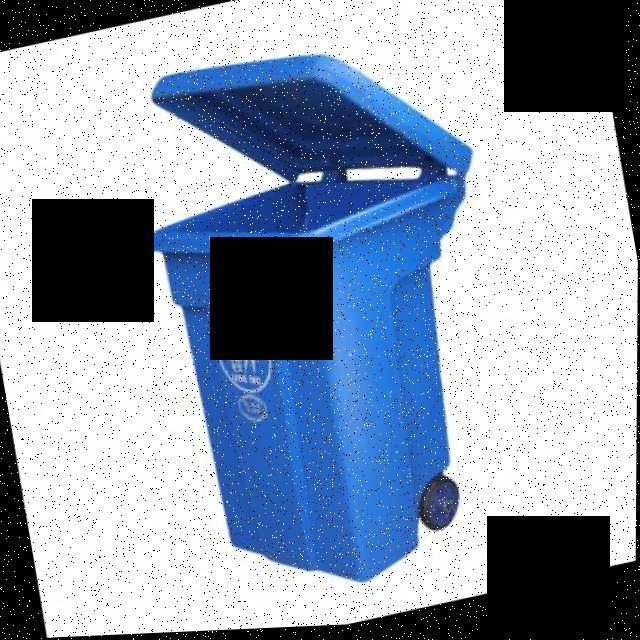bin: (86, 0, 571, 637)
